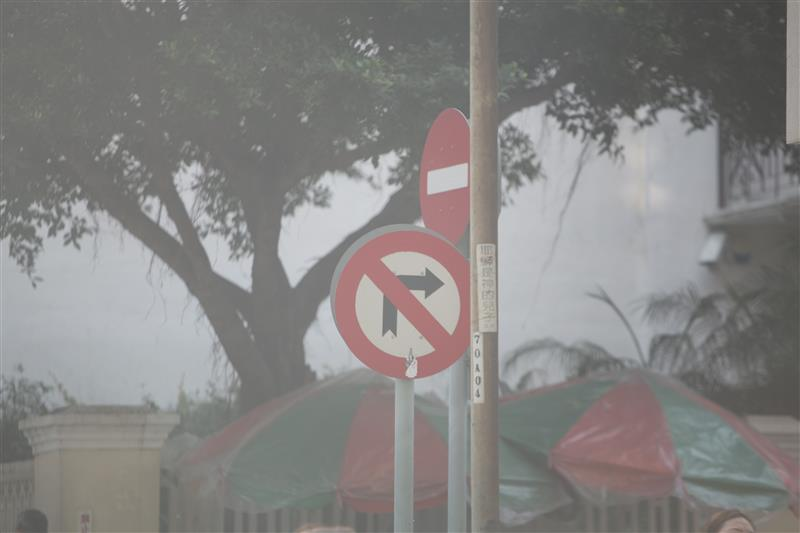noEntry: (421, 107, 472, 243)
noRightTurn: (330, 228, 470, 380)
